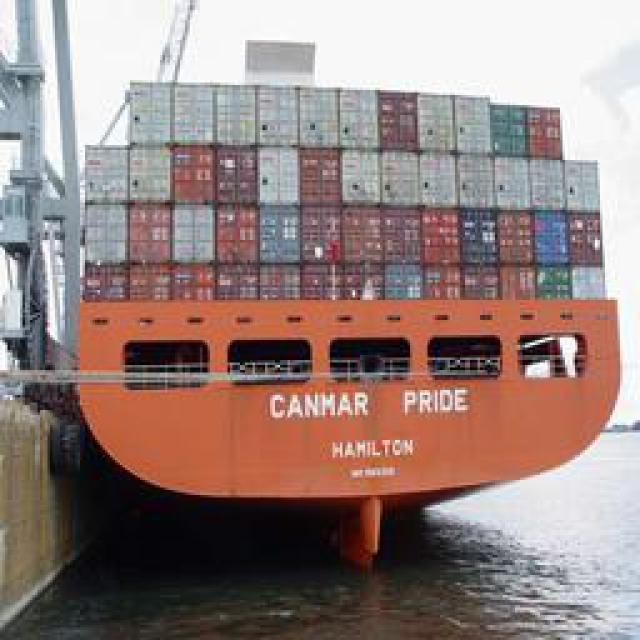Ship: (47, 14, 640, 580)
